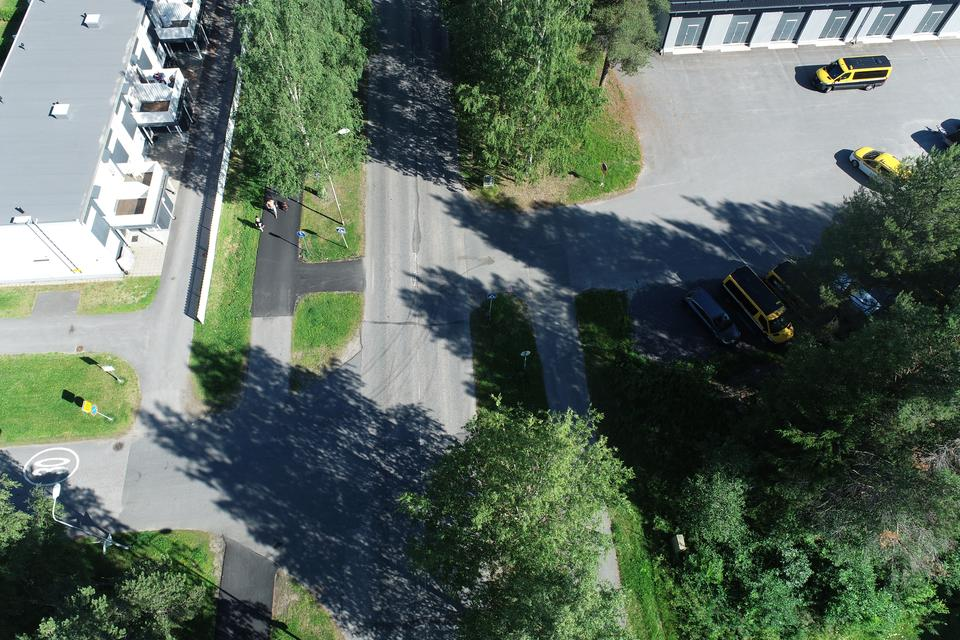intersection: (190, 362, 382, 558), (241, 247, 376, 315)
